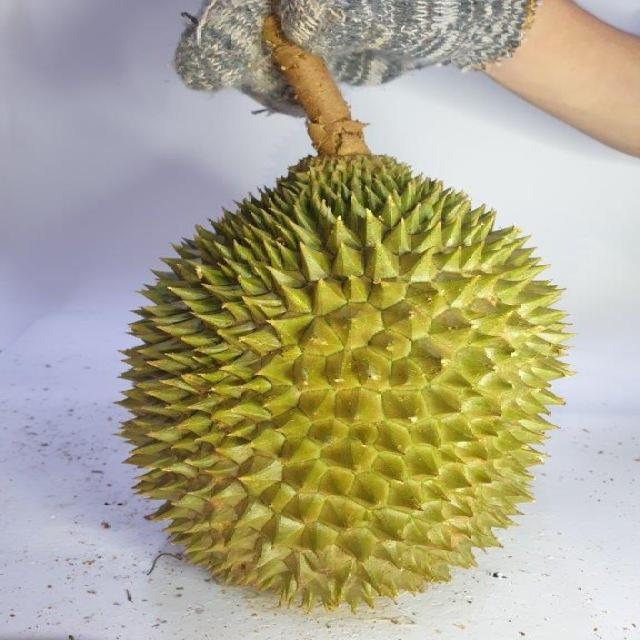immature: (114, 143, 577, 614)
